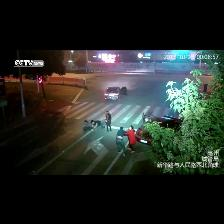person: (125, 126, 136, 153), (116, 127, 125, 156), (90, 119, 106, 129), (106, 111, 111, 131), (83, 121, 93, 131)
